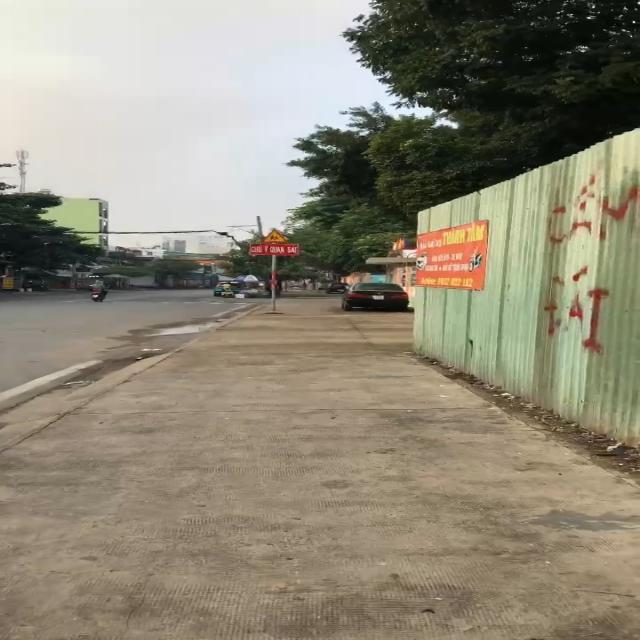Bien bao tre em: (259, 226, 290, 244)
